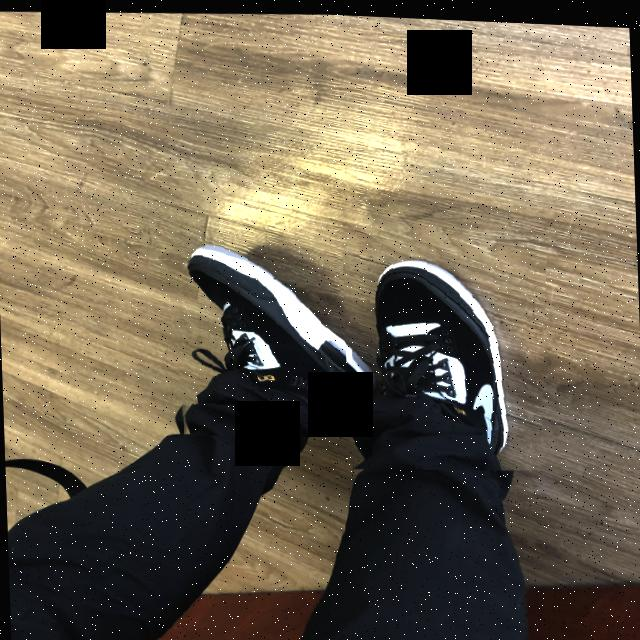shoe: (342, 236, 553, 472), (166, 223, 388, 441)
